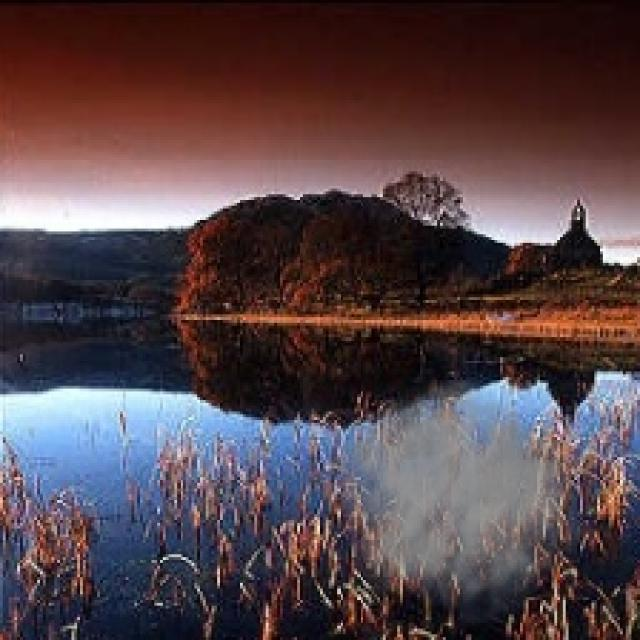smoke: (332, 377, 592, 629)
